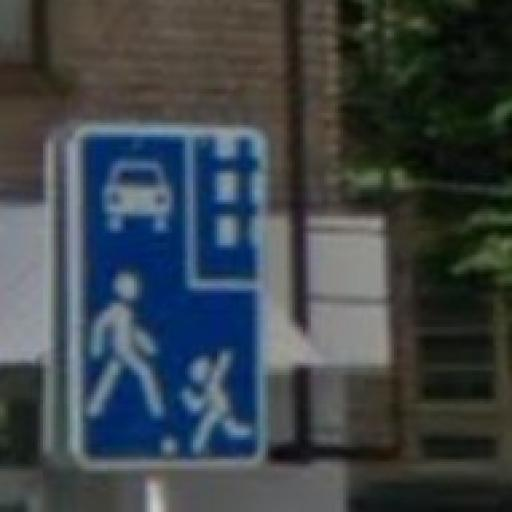traffic_sign: (68, 121, 269, 470)
